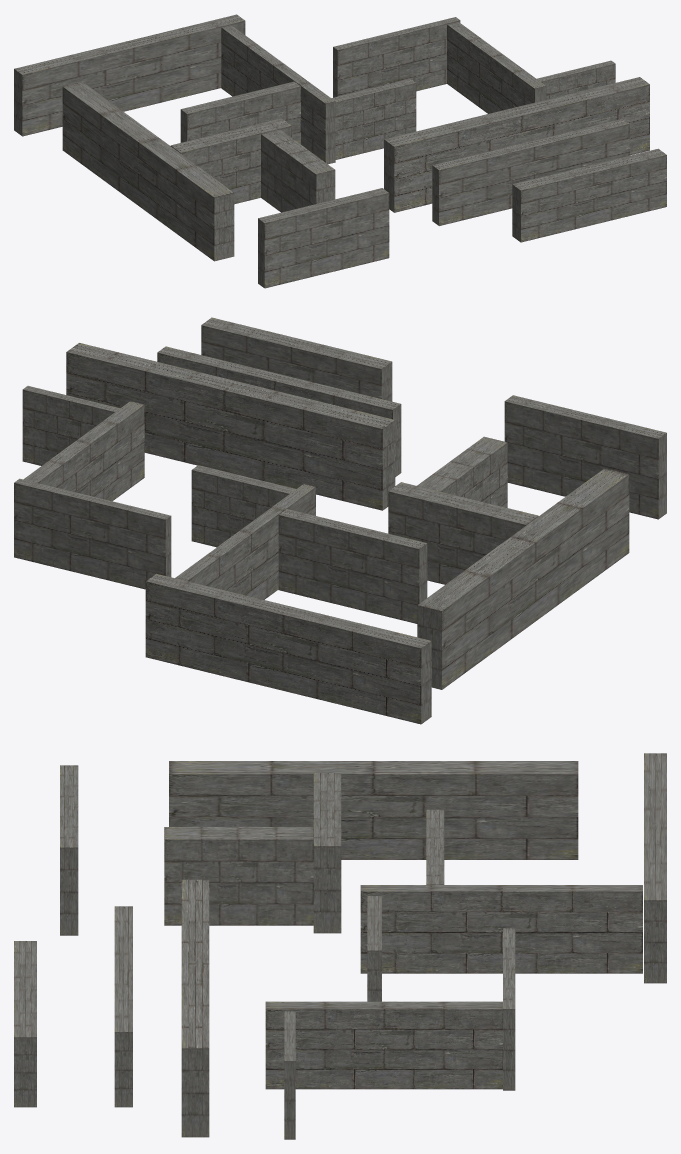
The model's file is wall.fbx.
3 views of the same model, one above another, from view 1: azimuth 30°, elevation 25°; view 2: azimuth 150°, elevation 25°; view 3: azimuth 270°, elevation 25° (orthographic). The views are drawn at different scales.
Parts seen in each view (by area): view 1: Box008, Box001, Box011, Box012, Box014, Box013, Box005, Box002, Box006, Box004, Box010, Box009 (+2 smaller); view 2: Box011, Box001, Box008, Box014, Box003, Box005, Box009, Box013, Box006, Box002, Box004, Box012 (+2 smaller); view 3: Box008, Box002, Box006, Box010, Box011, Box001, Box009, Box013, Box012, Box014, Box005, Box004 (+2 smaller).
Boxes of the visible parts, box(x1,y1,x2,y2) form: Box008: box(62, 82, 234, 261); Box001: box(14, 14, 245, 136); Box011: box(384, 77, 649, 212); Box012: box(432, 119, 629, 225); Box014: box(258, 188, 389, 288); Box013: box(512, 148, 666, 242); Box005: box(333, 17, 460, 97); Box002: box(221, 25, 335, 164); Box006: box(447, 22, 546, 113); Box004: box(331, 79, 416, 159); Box010: box(261, 129, 335, 212); Box009: box(170, 118, 291, 204); Box011: box(66, 343, 395, 510); Box001: box(145, 573, 431, 724); Box008: box(417, 468, 629, 689); Box014: box(504, 395, 666, 519); Box003: box(278, 509, 427, 623); Box005: box(14, 478, 171, 589); Box009: box(388, 482, 538, 584); Box013: box(201, 317, 392, 401); Box006: box(23, 401, 144, 501); Box002: box(175, 484, 315, 599); Box004: box(191, 465, 295, 547); Box012: box(157, 346, 401, 476); Box008: box(169, 761, 578, 859); Box002: box(360, 885, 642, 973); Box006: box(265, 1001, 502, 1089); Box010: box(164, 827, 313, 925); Box011: box(181, 879, 209, 1137); Box001: box(644, 753, 666, 983); Box009: box(313, 773, 341, 933); Box013: box(14, 941, 36, 1107); Box012: box(114, 906, 132, 1107); Box014: box(60, 765, 78, 935); Box005: box(503, 928, 515, 1090); Box004: box(367, 896, 381, 1001).
Size of the model in its own units: 4414 by 605 by 4019.
1 material, 1 textured.
